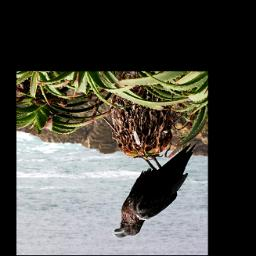Crow: (110, 142, 199, 239)
